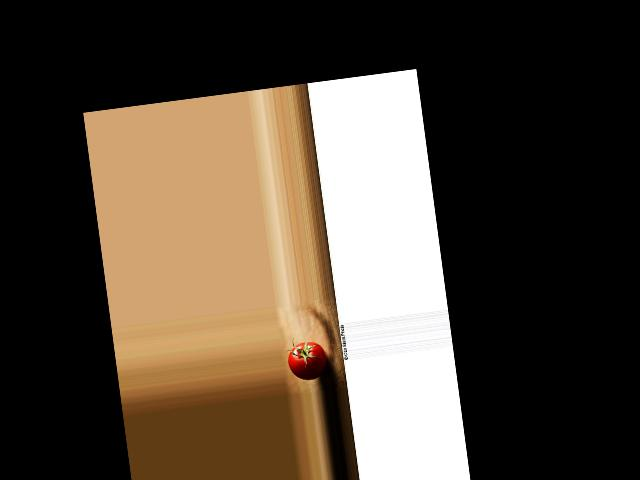tomato: (286, 339, 328, 381)
